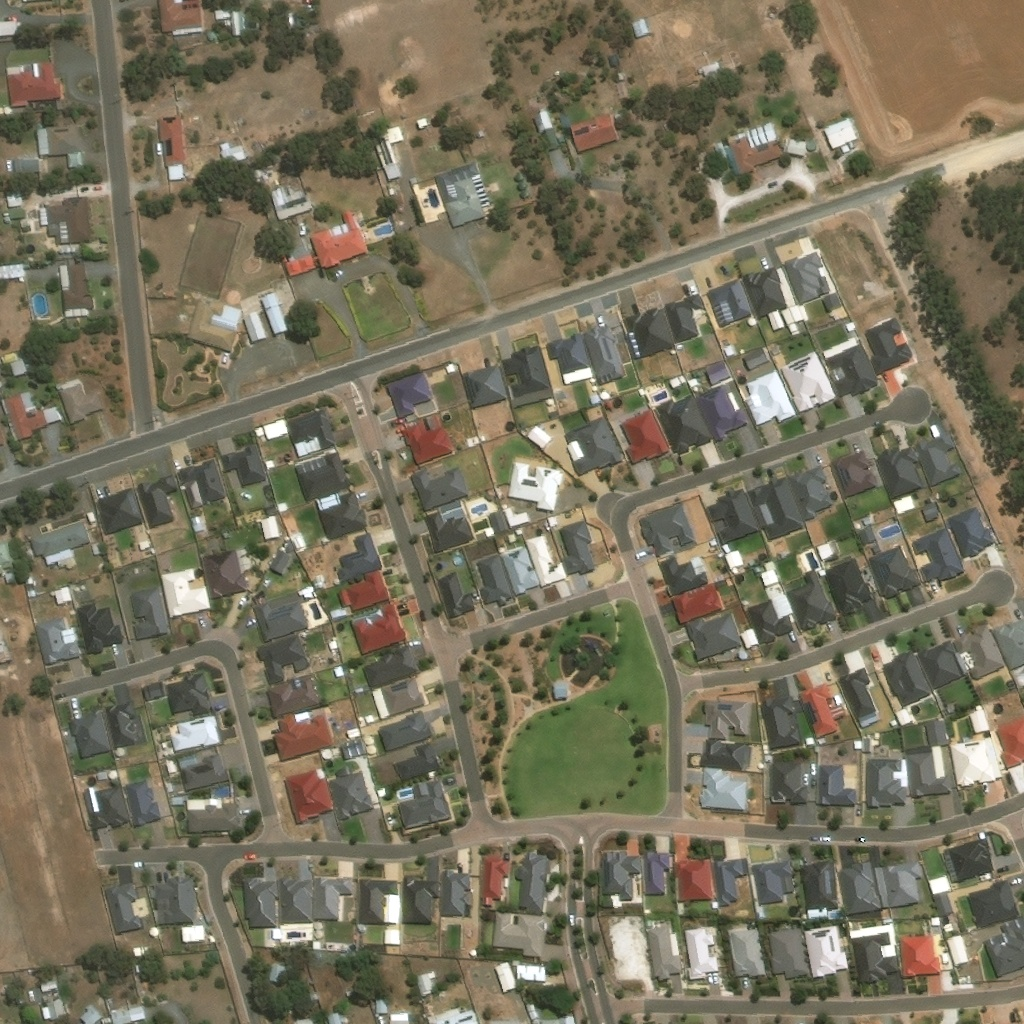0 no-damage: (875, 431, 960, 499), (746, 476, 805, 539), (431, 162, 485, 228), (781, 349, 836, 413), (563, 416, 621, 475), (310, 208, 366, 267), (655, 395, 711, 454), (786, 570, 837, 630), (639, 502, 696, 555), (952, 623, 1004, 680), (706, 487, 758, 543), (695, 384, 746, 441), (743, 370, 795, 425), (350, 602, 406, 653), (826, 344, 879, 397), (506, 461, 562, 511), (823, 558, 873, 613), (685, 612, 741, 661), (912, 528, 963, 581), (867, 545, 917, 599), (398, 776, 449, 828), (253, 591, 306, 641), (500, 345, 550, 398), (965, 878, 1018, 928), (274, 714, 331, 760), (866, 317, 912, 374), (619, 410, 667, 464), (882, 651, 929, 706), (410, 465, 467, 510), (283, 770, 332, 822), (73, 603, 122, 655), (788, 465, 833, 521), (317, 490, 368, 539), (185, 299, 234, 350), (624, 307, 675, 356), (299, 451, 348, 501), (160, 567, 209, 617), (256, 635, 306, 683), (942, 837, 995, 882), (265, 674, 320, 717), (6, 62, 58, 107), (199, 549, 246, 598), (947, 506, 992, 557), (492, 911, 543, 956), (804, 925, 849, 976), (743, 265, 787, 317), (400, 420, 452, 464), (727, 135, 784, 175), (34, 617, 80, 666), (852, 931, 897, 981), (336, 568, 388, 611), (364, 644, 416, 687), (135, 474, 176, 528), (840, 860, 881, 914), (337, 532, 382, 581), (798, 860, 836, 918), (66, 708, 110, 758), (27, 521, 88, 557), (583, 325, 623, 379), (916, 642, 961, 690), (328, 771, 372, 820), (525, 533, 566, 585), (95, 488, 141, 534), (948, 740, 994, 786), (178, 459, 227, 502), (378, 711, 432, 750), (152, 873, 193, 924), (386, 372, 431, 418), (831, 450, 875, 497), (984, 925, 1023, 978), (864, 759, 907, 807), (760, 695, 800, 746), (646, 924, 682, 980), (784, 249, 822, 302), (2, 391, 43, 440), (423, 511, 473, 551), (838, 668, 875, 722), (462, 364, 507, 408), (748, 600, 793, 644), (700, 767, 746, 810), (130, 588, 168, 640), (370, 125, 405, 181), (664, 293, 704, 342), (600, 850, 640, 899), (799, 684, 835, 738), (906, 753, 950, 797), (707, 278, 752, 321), (476, 553, 513, 605), (660, 555, 708, 595), (104, 880, 140, 933), (768, 928, 806, 978), (218, 444, 263, 486), (569, 112, 615, 153), (286, 409, 333, 449), (883, 858, 922, 906), (502, 546, 540, 595), (517, 849, 546, 913), (560, 520, 595, 573), (547, 332, 590, 375), (166, 672, 210, 714), (89, 785, 131, 829), (47, 197, 88, 241), (776, 267, 807, 325), (105, 700, 144, 746), (242, 877, 277, 928), (180, 753, 228, 790), (402, 875, 439, 923), (379, 676, 424, 715), (436, 572, 475, 617), (171, 714, 219, 750), (990, 620, 1023, 671), (313, 875, 353, 917), (124, 780, 161, 825), (685, 927, 717, 979), (752, 860, 791, 902), (674, 859, 713, 901), (359, 878, 397, 921), (395, 743, 439, 780), (57, 260, 90, 309), (670, 591, 719, 624), (731, 928, 764, 977), (277, 876, 312, 922), (899, 936, 939, 976), (59, 384, 100, 423), (710, 858, 744, 905), (702, 703, 746, 738), (769, 763, 806, 804), (994, 717, 1023, 769), (267, 185, 310, 220), (34, 124, 81, 155), (187, 802, 238, 830), (818, 766, 854, 804), (441, 868, 470, 915), (157, 116, 183, 165), (479, 853, 507, 897), (700, 739, 742, 768), (259, 291, 287, 334), (277, 248, 317, 277), (643, 852, 670, 893), (823, 117, 857, 147), (945, 933, 969, 967), (853, 514, 878, 546), (428, 1007, 476, 1023), (209, 304, 239, 329), (492, 961, 516, 992), (437, 498, 466, 523), (242, 311, 265, 342), (42, 548, 74, 569), (483, 508, 506, 537), (704, 359, 730, 384), (0, 540, 18, 575), (187, 795, 232, 809), (108, 1005, 143, 1023), (268, 548, 292, 574), (293, 435, 321, 457), (370, 687, 389, 719), (743, 346, 769, 369), (925, 719, 947, 746), (216, 141, 242, 163), (968, 704, 987, 734), (414, 970, 435, 997), (46, 220, 69, 244), (527, 425, 551, 448), (770, 591, 791, 617), (183, 480, 202, 508), (261, 419, 287, 439), (531, 108, 552, 132), (753, 501, 774, 525), (515, 964, 545, 980), (315, 492, 341, 510), (48, 585, 70, 605), (259, 516, 279, 538), (539, 130, 559, 152), (723, 548, 743, 570), (142, 681, 165, 700), (933, 892, 952, 915), (931, 745, 944, 778), (235, 547, 252, 572), (550, 679, 570, 700), (78, 1003, 99, 1023), (891, 759, 906, 787), (340, 740, 362, 759), (629, 17, 648, 39), (180, 924, 202, 943), (12, 159, 39, 174), (784, 136, 805, 155), (739, 627, 758, 648), (767, 309, 785, 331), (523, 1000, 540, 1023), (83, 786, 98, 812), (565, 440, 583, 461), (384, 892, 397, 921), (822, 290, 841, 309), (815, 540, 834, 559), (893, 708, 912, 727), (699, 61, 720, 78), (8, 358, 27, 376), (0, 263, 24, 277), (286, 1010, 311, 1023), (760, 566, 778, 584), (266, 962, 284, 980), (37, 976, 57, 992), (0, 20, 18, 37), (58, 627, 76, 644), (689, 554, 704, 574), (42, 406, 59, 423), (229, 10, 240, 35), (383, 927, 400, 943), (667, 374, 685, 389), (763, 121, 777, 140), (61, 307, 87, 317), (505, 528, 521, 544), (669, 932, 680, 955), (171, 27, 202, 35), (177, 753, 196, 766), (66, 152, 82, 167), (96, 769, 116, 781), (188, 515, 202, 532), (940, 915, 954, 932), (323, 943, 349, 952), (388, 1012, 409, 1023), (282, 9, 293, 30), (374, 997, 388, 1013), (750, 127, 761, 145), (757, 125, 768, 143), (38, 1005, 51, 1020), (325, 1011, 341, 1023), (59, 379, 78, 389), (168, 165, 181, 179), (7, 207, 22, 219), (37, 206, 47, 224), (213, 8, 229, 19), (859, 736, 869, 753), (685, 377, 698, 390), (136, 538, 150, 550), (6, 195, 20, 206), (164, 759, 175, 773), (746, 130, 755, 147), (415, 116, 427, 128), (346, 727, 358, 738), (252, 426, 263, 437), (332, 665, 343, 676), (745, 316, 756, 327), (845, 319, 856, 330), (723, 345, 734, 356), (269, 928, 280, 939), (467, 435, 479, 445), (807, 138, 817, 150), (442, 364, 453, 374), (170, 796, 183, 804), (376, 787, 386, 797), (148, 927, 158, 937), (327, 640, 338, 649), (839, 143, 850, 152), (355, 716, 364, 727), (365, 745, 375, 754), (929, 916, 939, 925), (803, 736, 813, 745), (599, 390, 608, 400), (1, 215, 10, 222), (363, 737, 372, 744), (851, 741, 860, 748), (468, 948, 477, 955), (756, 762, 763, 770), (872, 732, 878, 740), (77, 584, 84, 590), (1, 212, 8, 215)
4 un-classified: (541, 580, 570, 603), (0, 630, 8, 663), (936, 1010, 956, 1023), (278, 566, 292, 582), (557, 1016, 574, 1023), (385, 765, 396, 774), (668, 349, 673, 355)
